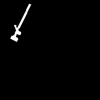double_crochet: (11, 4, 30, 40)
